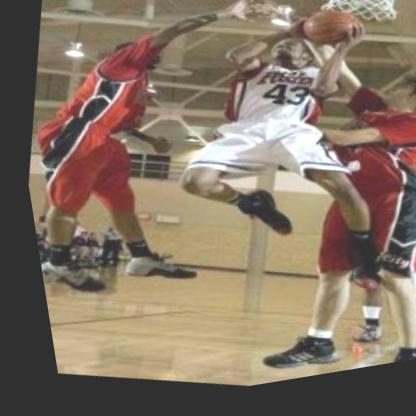basketball: (289, 4, 375, 76)
